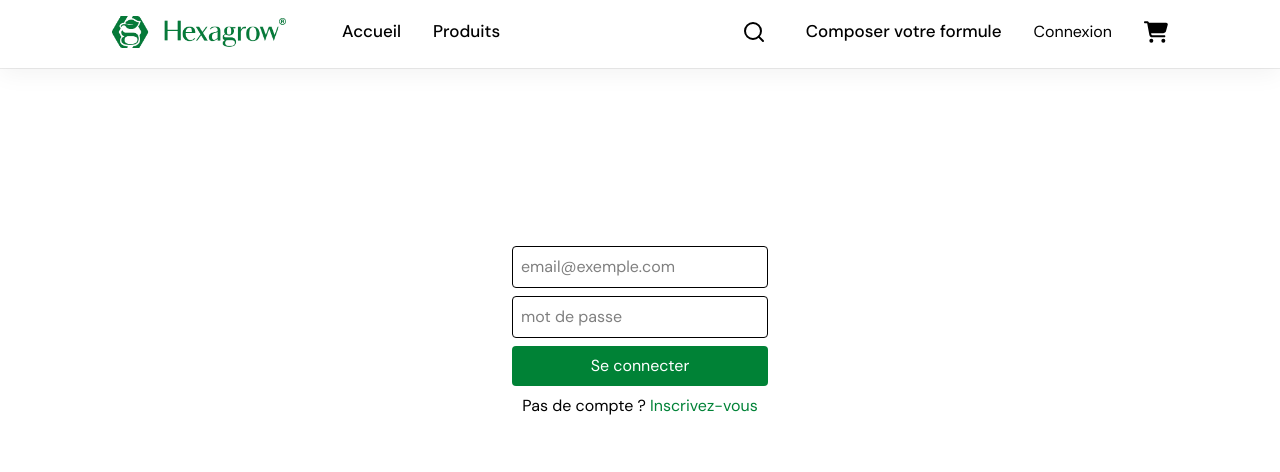
Authentication › permet de basculer vers le formulaire d'inscription
The image size is (1280, 472).
Check: the form is shown, box [512,246,768,418]
Check: the submit button reads "Se connecter", box [512,346,768,386]
Click the button with test id "switch-to-register" at x=704, y=406, box [650,394,758,418]
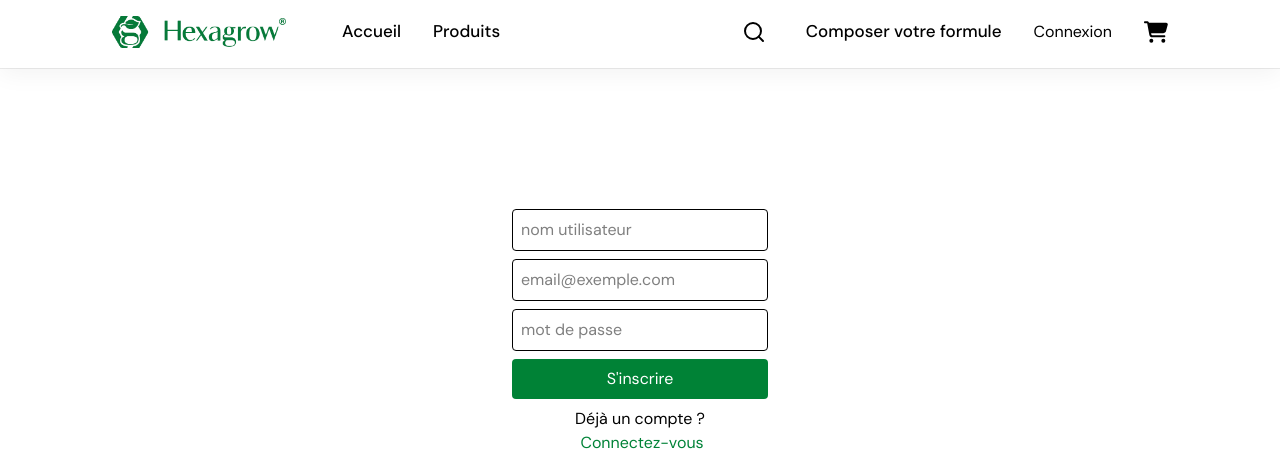
Check: the field named "username" is shown, box [512,209,768,251]
Check: the submit button reads "S'inscrire", box [512,359,768,399]
Check: the button with test id "switch-to-login" is shown, box [580,431,703,455]
